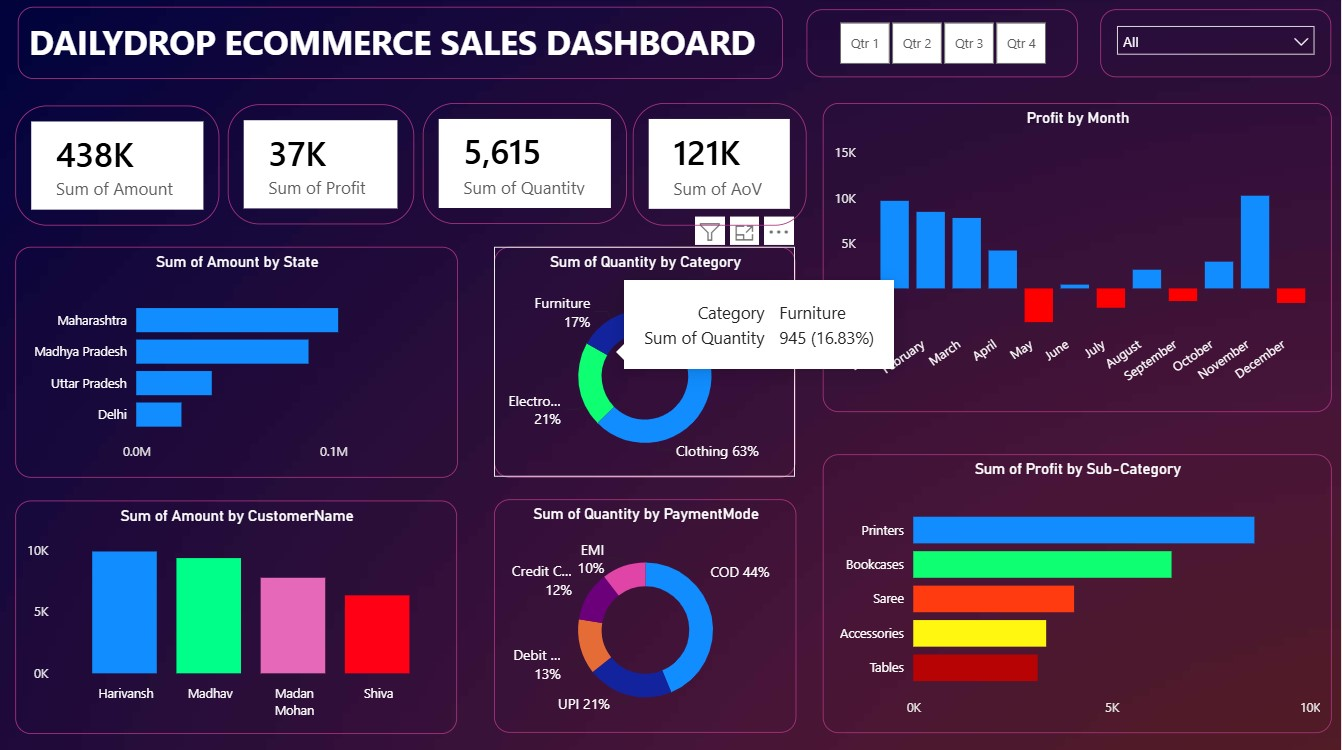

Layout of this report page (visuals, bound fields, positions):
{"tool":"powerbi","page":{"name":"Page 1","canvas":[1280,720],"ordinal":0},"visuals":[{"type":"textbox","box":[17.9,8.3,728.6,69],"z":0},{"type":"columnChart","title":"Profit by Month","fields":{"Category":["Orders.Order Date.Variation.Date Hierarchy.Month"],"Y":["Sum(Details.Profit)"]},"box":[784.5,100,484.5,294],"z":1000},{"type":"barChart","fields":{"Category":["Details.Sub-Category"],"Y":["Sum(Details.Profit)"]},"box":[784.5,434.5,484.5,265.5],"z":2000},{"type":"donutChart","fields":{"Category":["Details.Category"],"Y":["Sum(Details.Quantity)"]},"box":[471.9,236.5,287,219.7],"z":3000},{"type":"donutChart","fields":{"Y":["Sum(Details.Quantity)"],"Category":["Details.PaymentMode"]},"box":[471.9,477.9,288.2,222.1],"z":4000},{"type":"cardVisual","fields":{"Data":["Sum(Details.Amount)"]},"box":[15.5,102.4,194.5,114.1],"z":5000},{"type":"cardVisual","fields":{"Data":["Sum(Details.Quantity)"]},"box":[403.6,100,194.5,115.3],"z":6000},{"type":"cardVisual","fields":{"Data":["Sum(Details.Profit)"]},"box":[217.9,101.2,177.7,114.1],"z":7000},{"type":"cardVisual","fields":{"Data":["Sum(Details.AoV)"]},"box":[603.6,100,165.7,116.5],"z":8000},{"type":"barChart","fields":{"Category":["Orders.State"],"Y":["Sum(Details.Amount)"]},"box":[15.6,236.5,421.5,219.7],"z":9000},{"type":"columnChart","fields":{"Category":["Orders.CustomerName"],"Y":["Sum(Details.Amount)"]},"box":[16,478,421,222],"z":10000},{"type":"slicer","fields":{"Values":["Orders.Order Date.Variation.Date Hierarchy.Quarter"]},"box":[769.1,10.7,258.2,64.8],"z":11000},{"type":"slicer","fields":{"Values":["Orders.State"]},"box":[1048.8,10.7,219.7,64.8],"z":12000}]}

Visuals, with their boxes in screenshot pixels (x1, y1, x2, y2), scaled from the page's 1280x720 canvas onto the 1342x750 screenshot:
textbox: bbox=(19, 9, 783, 81)
"Profit by Month" columnChart: bbox=(822, 104, 1330, 410)
barChart - Details.Sub-Category x Sum(Details.Profit): bbox=(822, 453, 1330, 729)
donutChart - Details.Category x Sum(Details.Quantity): bbox=(495, 246, 796, 475)
donutChart - Sum(Details.Quantity) x Details.PaymentMode: bbox=(495, 498, 797, 729)
cardVisual - Sum(Details.Amount): bbox=(16, 107, 220, 226)
cardVisual - Sum(Details.Quantity): bbox=(423, 104, 627, 224)
cardVisual - Sum(Details.Profit): bbox=(228, 105, 415, 224)
cardVisual - Sum(Details.AoV): bbox=(633, 104, 807, 226)
barChart - Orders.State x Sum(Details.Amount): bbox=(16, 246, 458, 475)
columnChart - Orders.CustomerName x Sum(Details.Amount): bbox=(17, 498, 458, 729)
slicer - Orders.Order Date.Variation.Date Hierarchy.Quarter: bbox=(806, 11, 1077, 79)
slicer - Orders.State: bbox=(1100, 11, 1330, 79)
